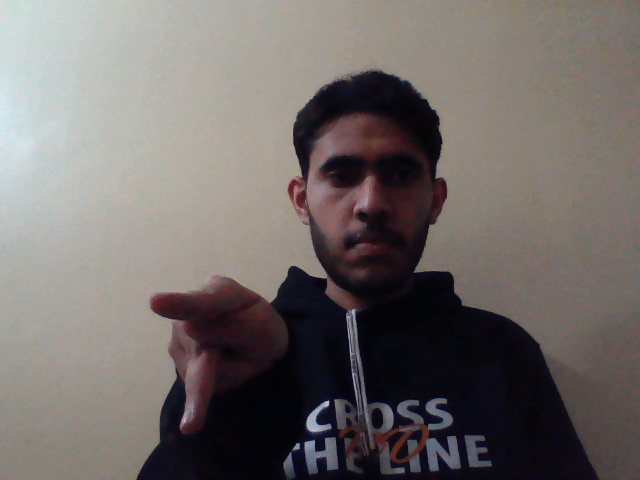P: (148, 271, 292, 434)
